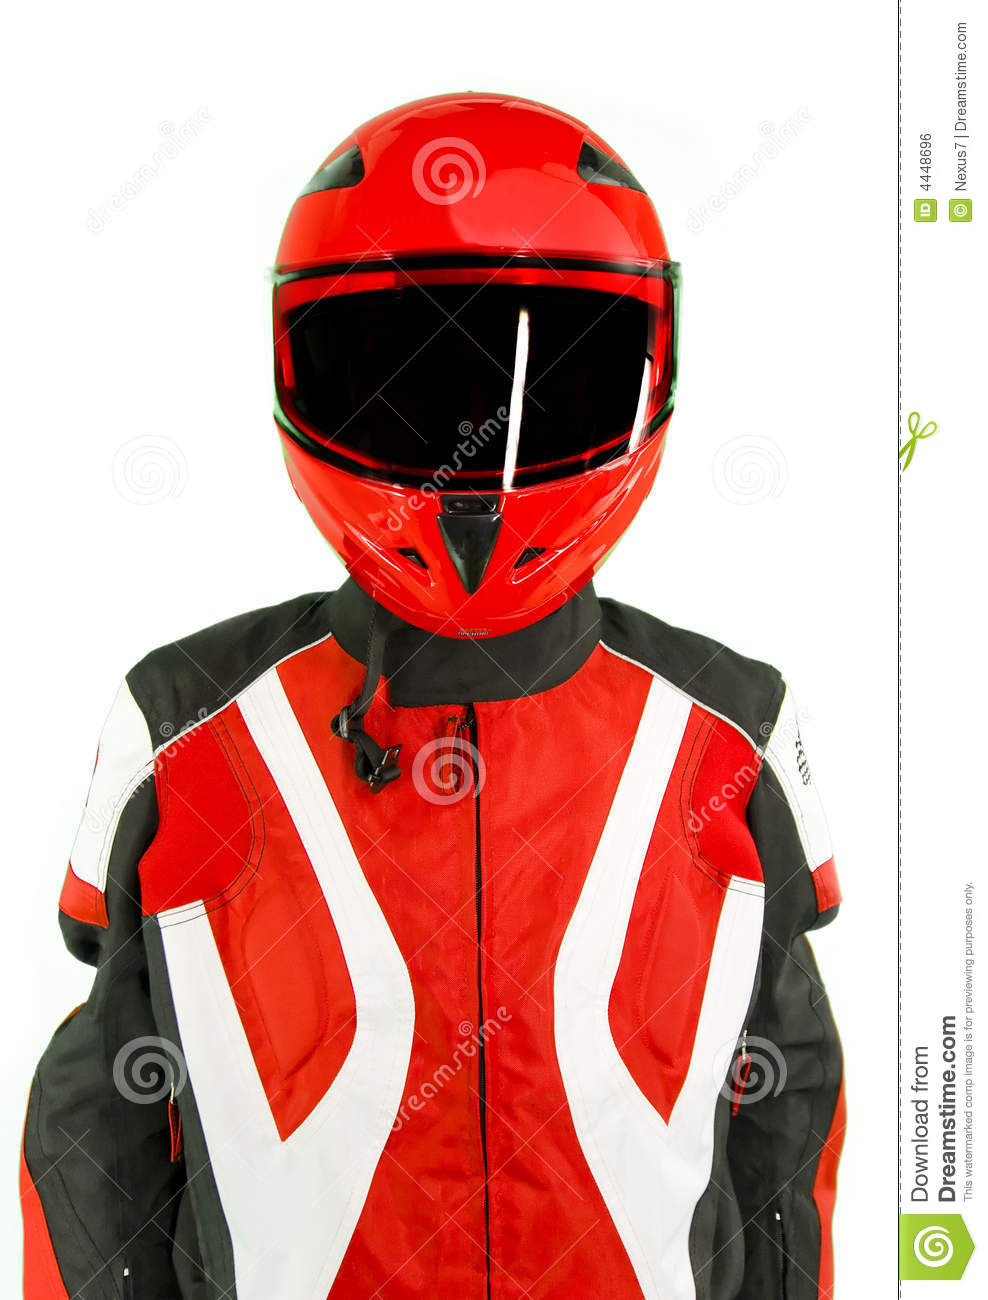helmet: (252, 107, 673, 615)
